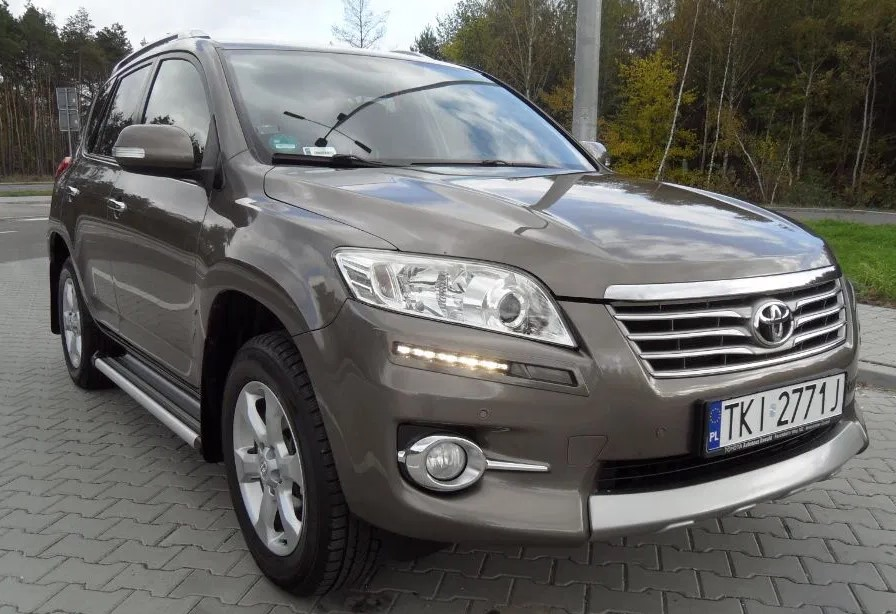number_plate: (680, 371, 874, 462)
